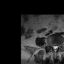CCS_normal: (54, 43, 56, 53)
LFS_severe_stenosis: (58, 43, 60, 49)
LLS_normal: (56, 43, 58, 51)
RFS_severe_stenosis: (50, 43, 52, 48)
RLS_stenosis: (52, 44, 54, 50)
